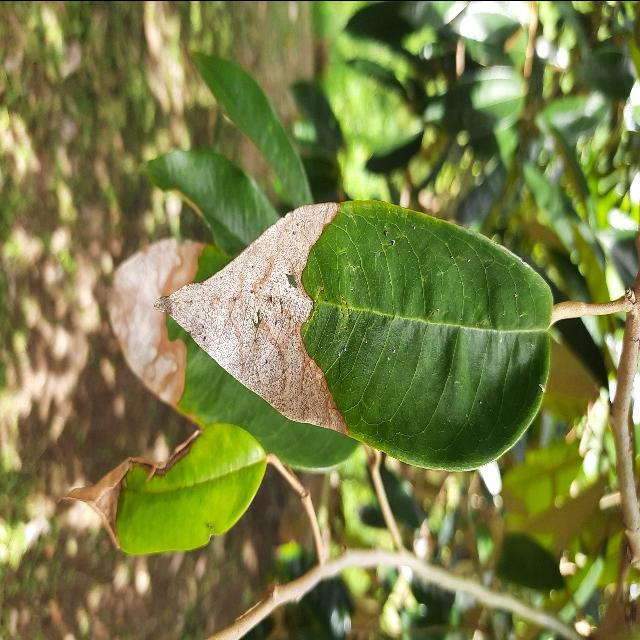Leaf Blight: (97, 191, 561, 475)
